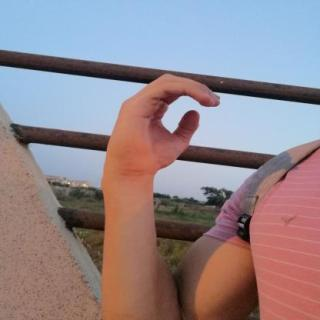JEEM: (92, 67, 230, 185)
